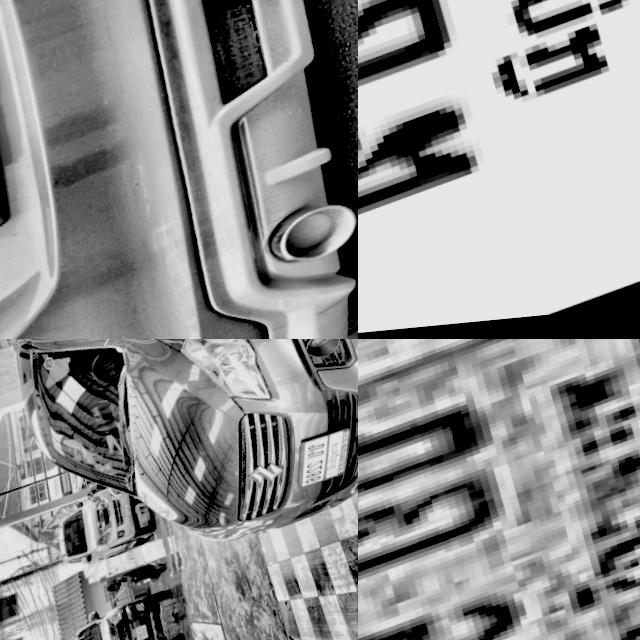license-plate: (358, 0, 640, 339), (358, 339, 640, 640), (282, 430, 358, 500), (130, 624, 151, 640), (116, 504, 131, 523)
